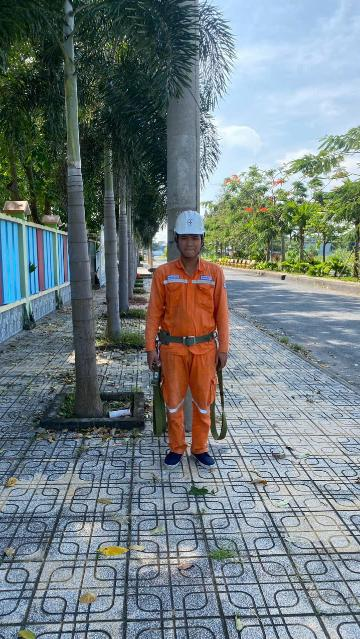harness: (150, 323, 223, 352)
helmet: (169, 202, 213, 244)
shoes: (190, 446, 221, 469), (164, 445, 186, 473)
